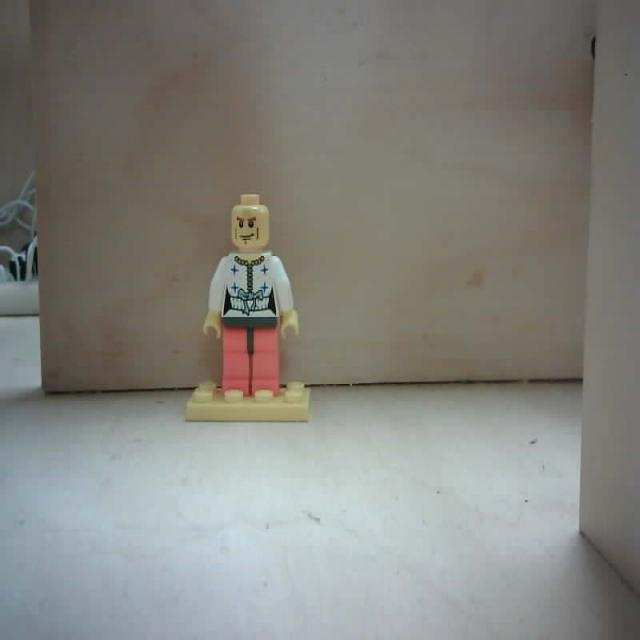Lego-People: (176, 190, 311, 436)
